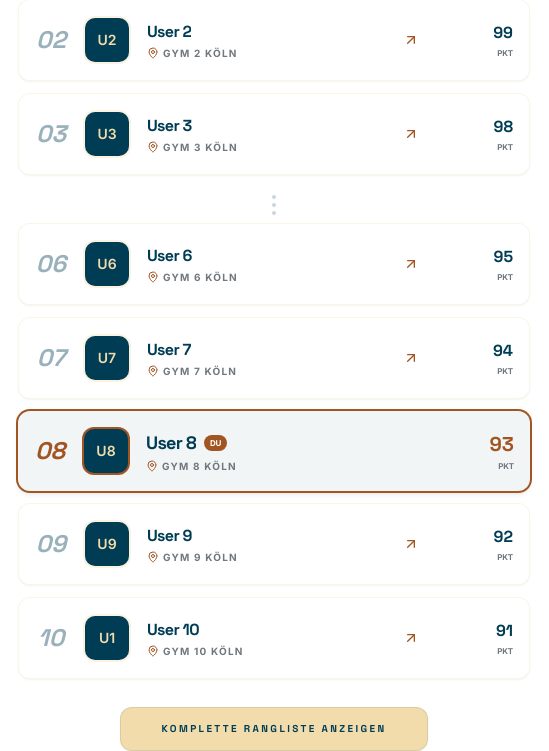
it: Rankings focus window › shows the podium plus the current user's neighborhood before expanding
This screenshot has width=549, height=751.
(page scrolled)
Check: the text "User 2" is shown, box left=147, top=20, right=191, bottom=44
Check: the text "User 3" is shown, box left=147, top=114, right=192, bottom=138
Click the button "Komplette Rangliste anzeigen" at coordinates (274, 729), box left=120, top=707, right=428, bottom=750
(page scrolled)
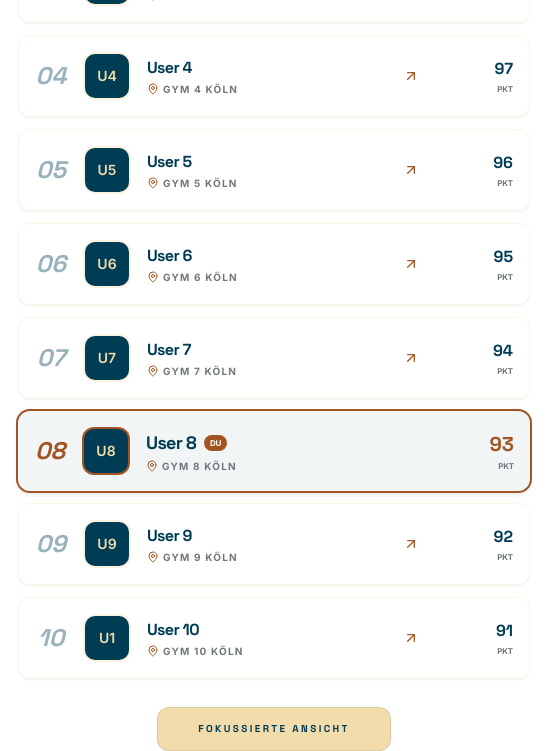
Check: the text "User 4" is shown, box left=147, top=56, right=192, bottom=80
Check: the text "User 5" is shown, box left=147, top=150, right=192, bottom=174
Check: the button "Fokussierte Ansicht" is shown, box left=157, top=707, right=391, bottom=750
